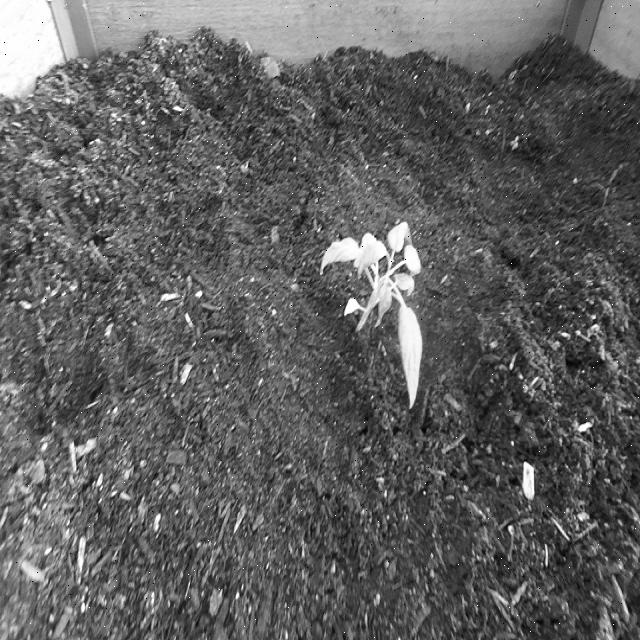Healthy: (317, 214, 429, 421)
